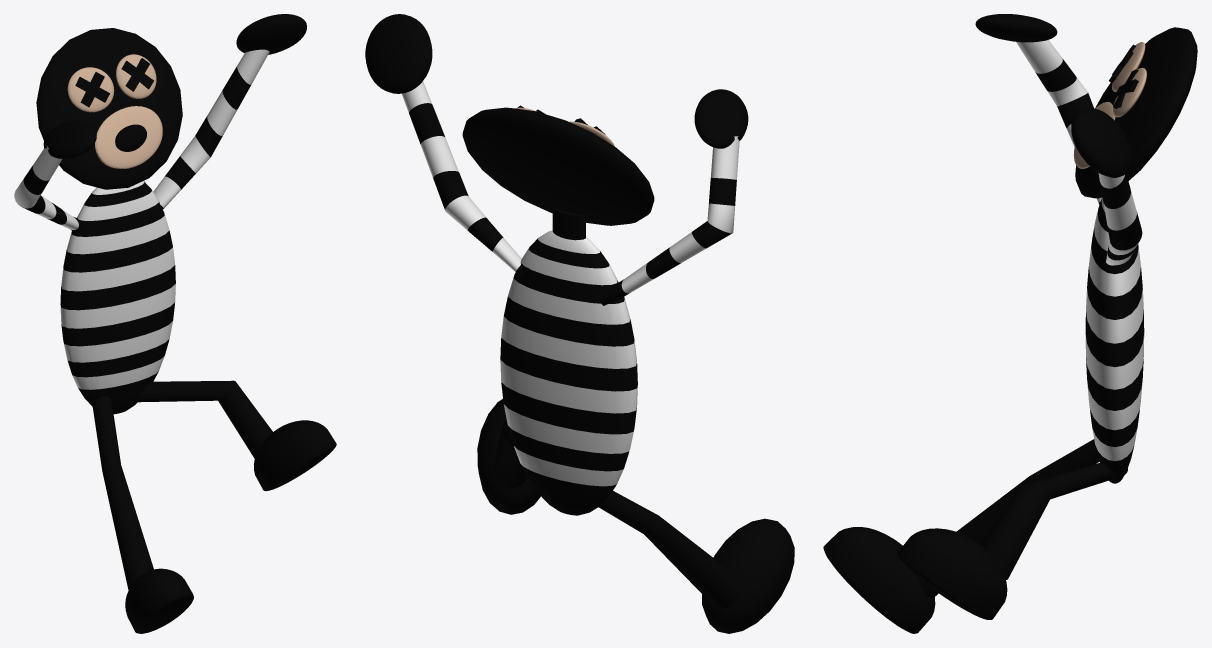
Rendered from BurglarS.fbx.
3 renders of one model, left to right at view 1: azimuth 30°, elevation 25°; view 2: azimuth 150°, elevation 25°; view 3: azimuth 270°, elevation 25°, orthographic. The views are drawn at different scales.
Visible parts, largest first — view 1: pSphere1, pSphere2, pCylinder1, pasted__pasted__pasted__pCylinder1, pasted__pasted__pasted__pSphere1, pasted__pCylinder1, pasted__pasted__pasted__pasted__pSphere1, pSphere4, pasted__pasted__pCylinder1, pSphere5, pasted__pSphere5, pSphere3 (+2 smaller); view 2: pSphere1, pSphere2, pasted__pasted__pasted__pasted__pSphere1, pasted__pasted__pasted__pCylinder1, pasted__pasted__pCylinder1, pCylinder1, pSphere5, pasted__pasted__pasted__pSphere1, pasted__pSphere5, pasted__pCylinder1, pCylinder2; view 3: pSphere1, pSphere2, pasted__pasted__pasted__pasted__pSphere1, pasted__pasted__pasted__pSphere1, pasted__pCylinder1, pSphere5, pasted__pasted__pCylinder1, pasted__pasted__pasted__pCylinder1, pCylinder1, pasted__pSphere5, pasted__pSphere3, pSphere3.
Boxes of the visible parts, bbox=[...] form: pSphere1: bbox=[60, 181, 175, 414]; pSphere2: bbox=[36, 28, 182, 189]; pCylinder1: bbox=[92, 396, 153, 589]; pasted__pasted__pasted__pCylinder1: bbox=[153, 49, 269, 209]; pasted__pasted__pasted__pSphere1: bbox=[254, 420, 336, 491]; pasted__pCylinder1: bbox=[136, 380, 272, 458]; pasted__pasted__pasted__pasted__pSphere1: bbox=[125, 568, 193, 633]; pSphere4: bbox=[95, 106, 162, 168]; pasted__pasted__pCylinder1: bbox=[14, 146, 81, 232]; pSphere5: bbox=[236, 14, 306, 54]; pasted__pSphere5: bbox=[43, 121, 96, 158]; pSphere3: bbox=[67, 67, 114, 112]; pSphere1: bbox=[500, 230, 637, 515]; pSphere2: bbox=[462, 107, 654, 225]; pasted__pasted__pasted__pasted__pSphere1: bbox=[702, 518, 794, 633]; pasted__pasted__pasted__pCylinder1: bbox=[402, 81, 522, 275]; pasted__pasted__pCylinder1: bbox=[600, 136, 739, 305]; pCylinder1: bbox=[598, 491, 739, 608]; pSphere5: bbox=[365, 14, 432, 93]; pasted__pasted__pasted__pSphere1: bbox=[477, 399, 540, 514]; pasted__pSphere5: bbox=[694, 89, 748, 148]; pasted__pCylinder1: bbox=[493, 420, 546, 499]; pCylinder2: bbox=[552, 209, 585, 240]; pSphere1: bbox=[1085, 197, 1144, 483]; pSphere2: bbox=[1075, 27, 1197, 198]; pasted__pasted__pasted__pasted__pSphere1: bbox=[823, 527, 935, 633]; pasted__pasted__pasted__pSphere1: bbox=[897, 528, 1007, 619]; pasted__pCylinder1: bbox=[982, 462, 1127, 579]; pSphere5: bbox=[1071, 107, 1131, 177]; pasted__pasted__pCylinder1: bbox=[1016, 40, 1101, 204]; pasted__pasted__pasted__pCylinder1: bbox=[1098, 173, 1142, 265]; pCylinder1: bbox=[918, 439, 1099, 597]; pasted__pSphere5: bbox=[975, 14, 1057, 42]; pasted__pSphere3: bbox=[1113, 67, 1146, 117]; pSphere3: bbox=[1112, 42, 1145, 91].
Size of the model in its own units: 9.07 by 15.13 by 8.04.
